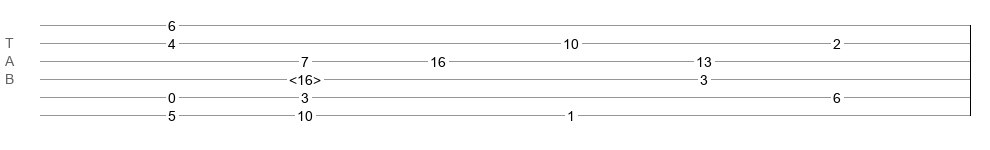0: (168, 90, 176, 100)
1: (567, 108, 575, 118)
10: (297, 108, 313, 118), (563, 36, 579, 46)
13: (696, 54, 712, 64)
16: (430, 54, 446, 64)
2: (833, 36, 841, 46)
3: (301, 90, 309, 100), (700, 72, 708, 82)
4: (168, 36, 176, 46)
5: (168, 108, 176, 118)
6: (168, 18, 176, 28), (833, 90, 841, 100)
7: (301, 54, 309, 64)
harmonic: (289, 72, 321, 82)
